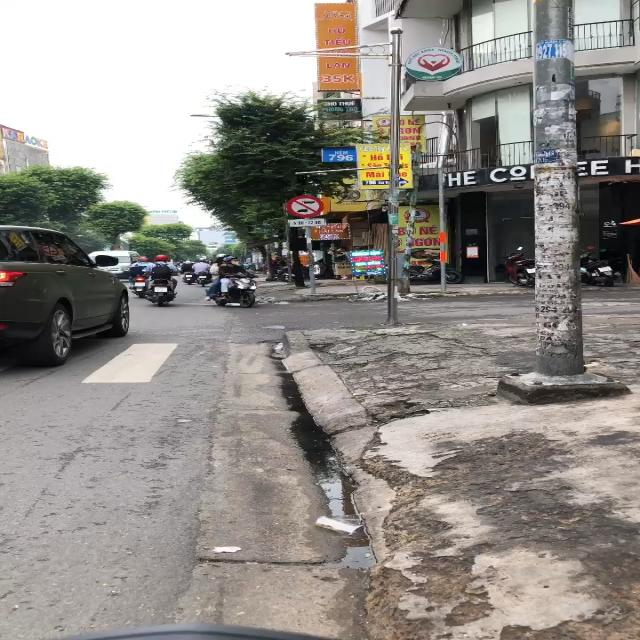Bien bao cam xe oto khach va xe oto tai: (279, 192, 329, 218)
